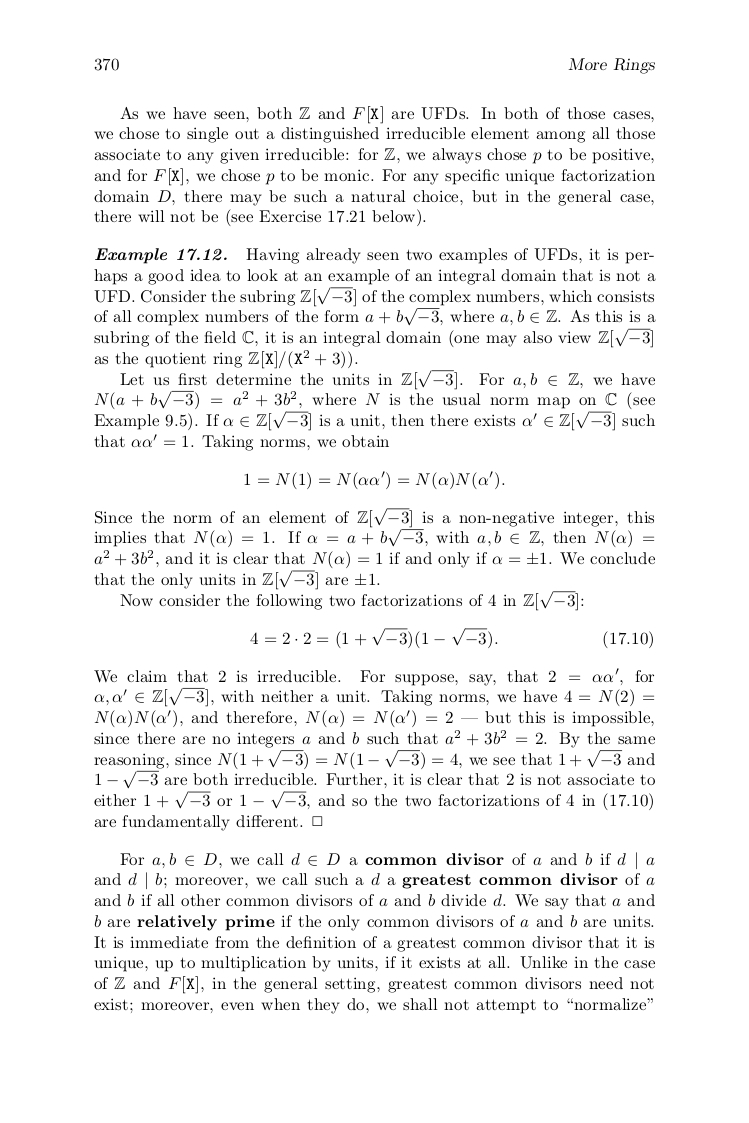formula: (250, 627, 652, 649), (244, 470, 504, 490)
